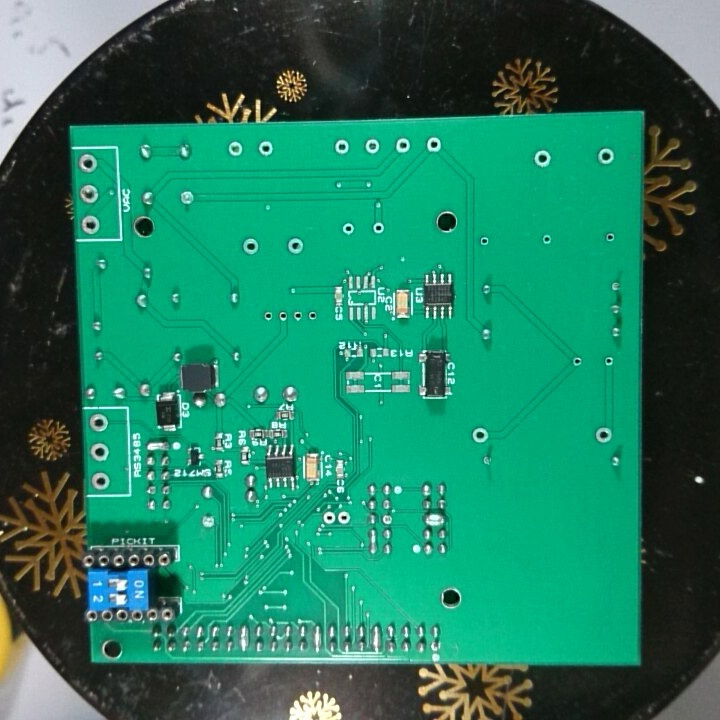F: (84, 410, 113, 435), (75, 150, 101, 176), (530, 146, 556, 172), (76, 180, 99, 208), (78, 212, 104, 236), (593, 144, 619, 168), (468, 422, 493, 446), (87, 469, 115, 490), (239, 235, 264, 258), (87, 441, 113, 462), (284, 235, 307, 258), (255, 138, 278, 160), (224, 138, 246, 161), (592, 423, 614, 446), (422, 133, 444, 155), (362, 135, 382, 158), (392, 135, 414, 155), (174, 189, 198, 206), (332, 138, 352, 158), (197, 511, 216, 532), (479, 449, 497, 471), (336, 507, 353, 529), (476, 232, 494, 251), (570, 354, 589, 372), (379, 510, 397, 529), (339, 221, 359, 238), (607, 277, 626, 294), (305, 305, 319, 328), (321, 509, 337, 529), (371, 220, 388, 238), (260, 305, 276, 324), (428, 636, 444, 655), (538, 231, 556, 247), (601, 354, 616, 372), (290, 306, 304, 324), (276, 309, 290, 325), (603, 229, 616, 246)
P: (143, 438, 171, 455), (310, 623, 324, 655), (238, 623, 252, 655), (370, 622, 382, 655), (422, 513, 449, 526), (367, 528, 379, 555)
